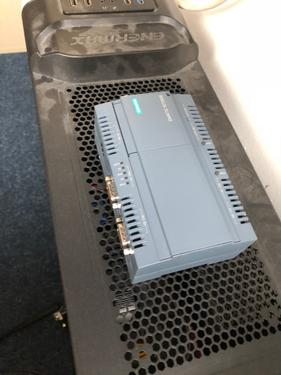device: (95, 91, 258, 285)
